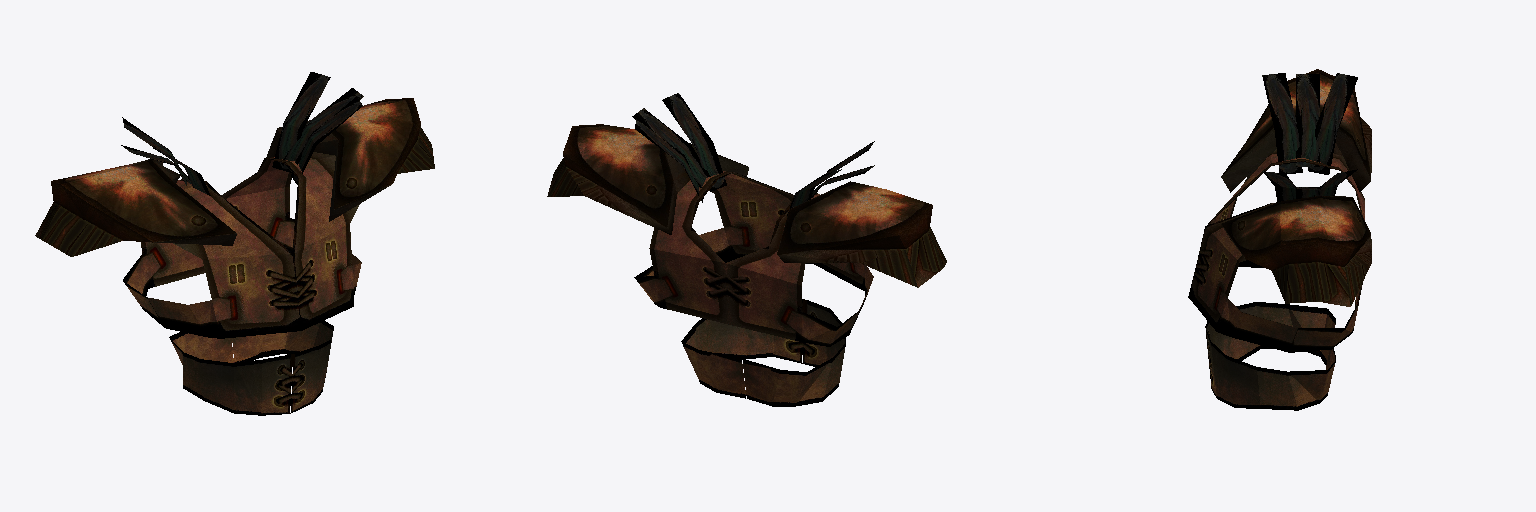
3 views of the same model, side by side, from view 1: azimuth 30°, elevation 25°; view 2: azimuth 150°, elevation 25°; view 3: azimuth 270°, elevation 25° (orthographic).
Size of the model in its own units: 51.59 by 33.56 by 20.99.
Materials: 1 (1 with a texture image).